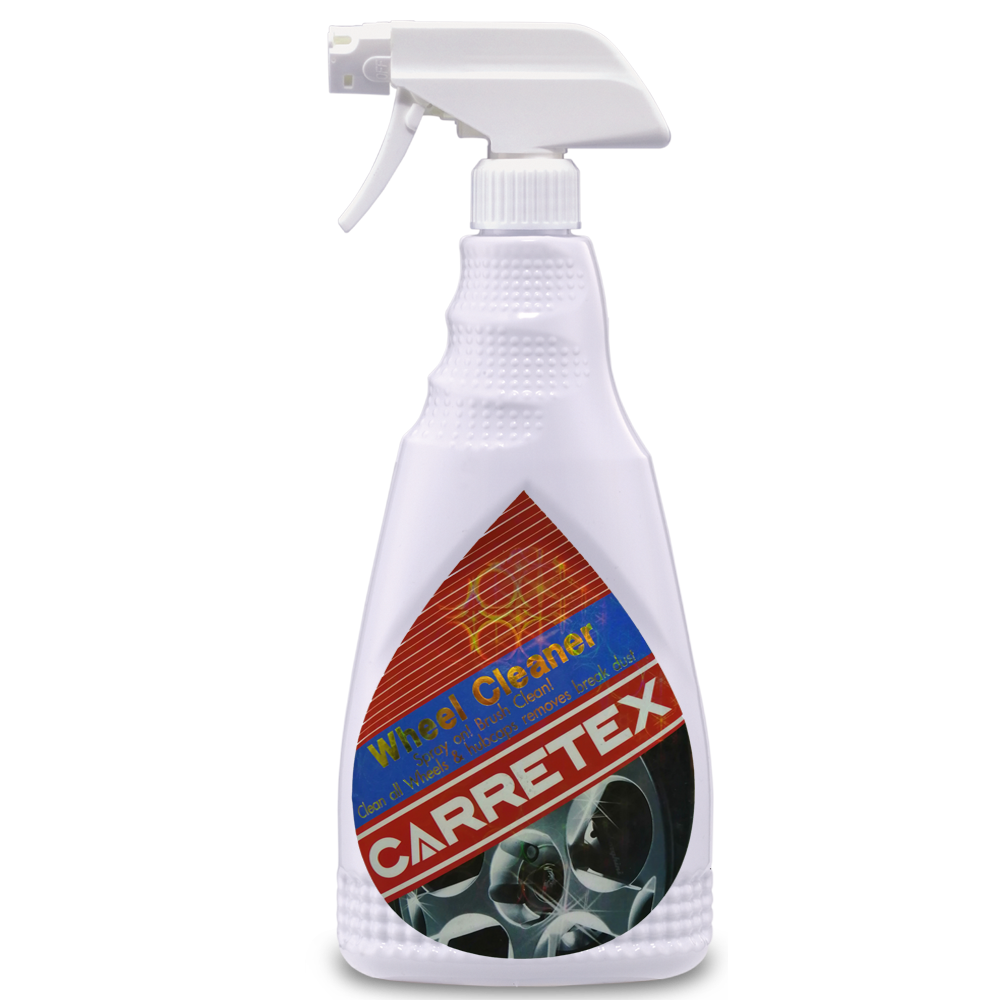Cleaning_solution: (299, 10, 751, 1000)
